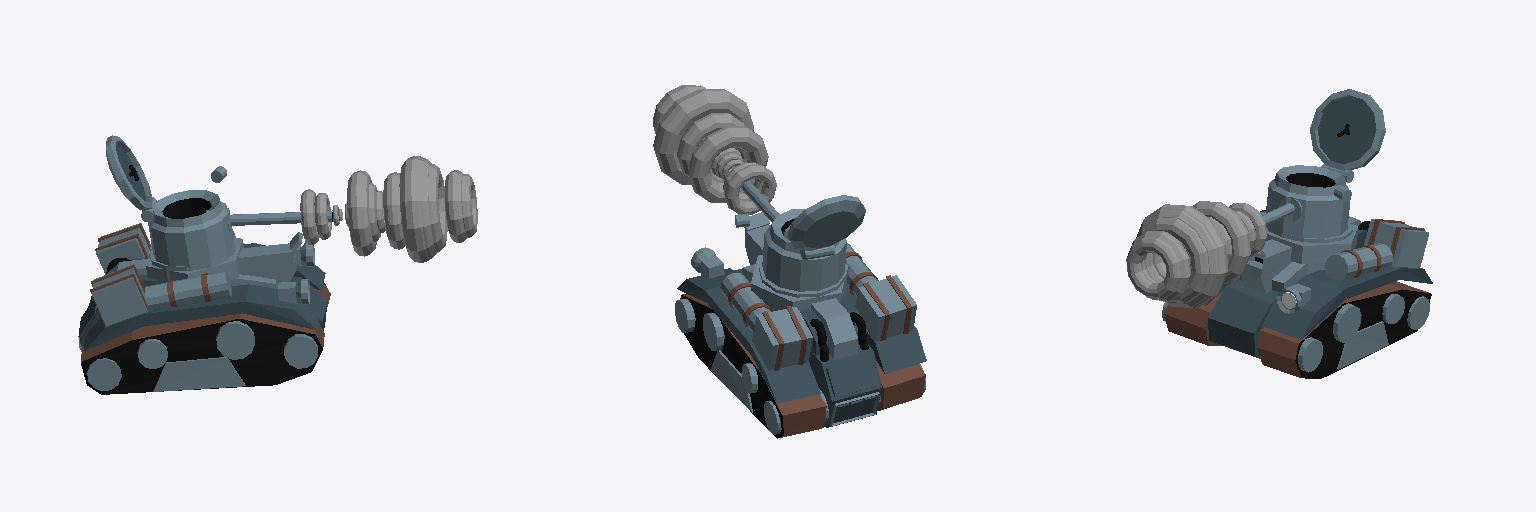
The picture shows the model from 3 angles: view 1: azimuth 30°, elevation 25°; view 2: azimuth 150°, elevation 25°; view 3: azimuth 270°, elevation 25°; orthographic projection.
Parts seen in each view (by area): view 1: group[number redacted], group[number redacted], group[number redacted], group[number redacted], group[number redacted], group[number redacted], group[number redacted], group[number redacted], group[number redacted], group[number redacted], group[number redacted], group[number redacted] (+14 smaller); view 2: group[number redacted], group[number redacted], group[number redacted], group[number redacted], group[number redacted], group[number redacted], group[number redacted], group[number redacted], group[number redacted], group[number redacted], group[number redacted], group[number redacted] (+13 smaller); view 3: group[number redacted], group[number redacted], group[number redacted], group[number redacted], group[number redacted], group[number redacted], group[number redacted], group[number redacted], group[number redacted], group[number redacted], group[number redacted], group[number redacted] (+11 smaller).
Boxes of the visible parts, <box> form: group[number redacted]: <box>81,313,324,394</box>; group[number redacted]: <box>148,190,235,270</box>; group[number redacted]: <box>84,284,320,350</box>; group[number redacted]: <box>153,357,245,391</box>; group[number redacted]: <box>106,243,297,288</box>; group[number redacted]: <box>399,156,429,262</box>; group[number redacted]: <box>92,264,147,326</box>; group[number redacted]: <box>145,271,231,309</box>; group[number redacted]: <box>106,135,152,210</box>; group[number redacted]: <box>347,170,376,256</box>; group[number redacted]: <box>428,164,447,251</box>; group[number redacted]: <box>383,172,404,249</box>; group[number redacted]: <box>680,294,826,438</box>; group[number redacted]: <box>762,209,846,291</box>; group[number redacted]: <box>677,268,820,403</box>; group[number redacted]: <box>653,89,753,184</box>; group[number redacted]: <box>787,195,865,250</box>; group[number redacted]: <box>688,126,768,202</box>; group[number redacted]: <box>745,225,857,359</box>; group[number redacted]: <box>752,307,812,370</box>; group[number redacted]: <box>855,275,916,341</box>; group[number redacted]: <box>845,263,926,374</box>; group[number redacted]: <box>876,361,925,410</box>; group[number redacted]: <box>734,269,881,427</box>; group[number redacted]: <box>1257,281,1431,378</box>; group[number redacted]: <box>1310,89,1385,170</box>; group[number redacted]: <box>1266,165,1350,238</box>; group[number redacted]: <box>1262,266,1432,339</box>; group[number redacted]: <box>1208,278,1278,358</box>; group[number redacted]: <box>1139,217,1208,302</box>; group[number redacted]: <box>1126,237,1181,298</box>; group[number redacted]: <box>1193,201,1250,283</box>; group[number redacted]: <box>1241,216,1366,293</box>; group[number redacted]: <box>1364,219,1428,267</box>; group[number redacted]: <box>1164,276,1239,345</box>; group[number redacted]: <box>1325,243,1392,280</box>.
Bounding box in the file's own units: 0.8804 × 0.5725 × 0.7033.